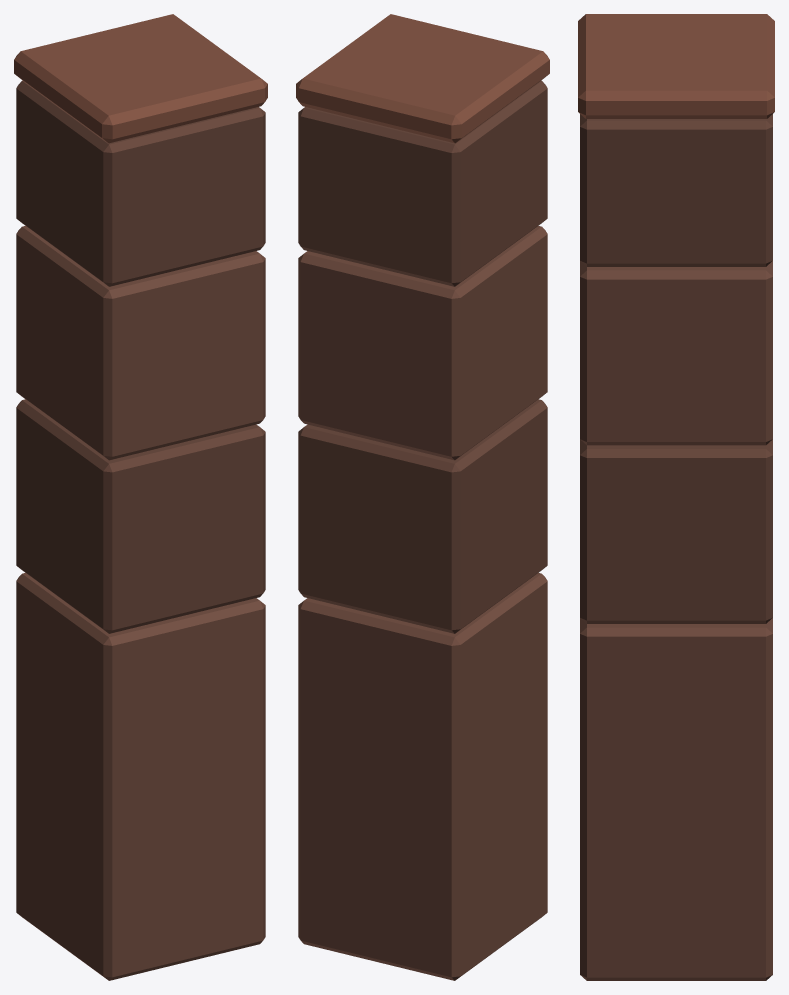
File: column-caldera-4b.glb
3 views of the same model, side by side, from view 1: azimuth 30°, elevation 25°; view 2: azimuth 150°, elevation 25°; view 3: azimuth 270°, elevation 25° (orthographic). The views are drawn at different scales.
Visible parts, largest first — view 1: column-caldera-4b; view 2: column-caldera-4b; view 3: column-caldera-4b.
Boxes of the visible parts, <box> form: column-caldera-4b: <box>14,14,267,980</box>; column-caldera-4b: <box>296,14,549,980</box>; column-caldera-4b: <box>578,14,774,980</box>.
Size of the model in its own units: 1 by 4.99 by 1.
